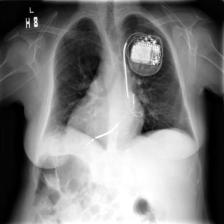normal: (42, 6, 196, 147)
